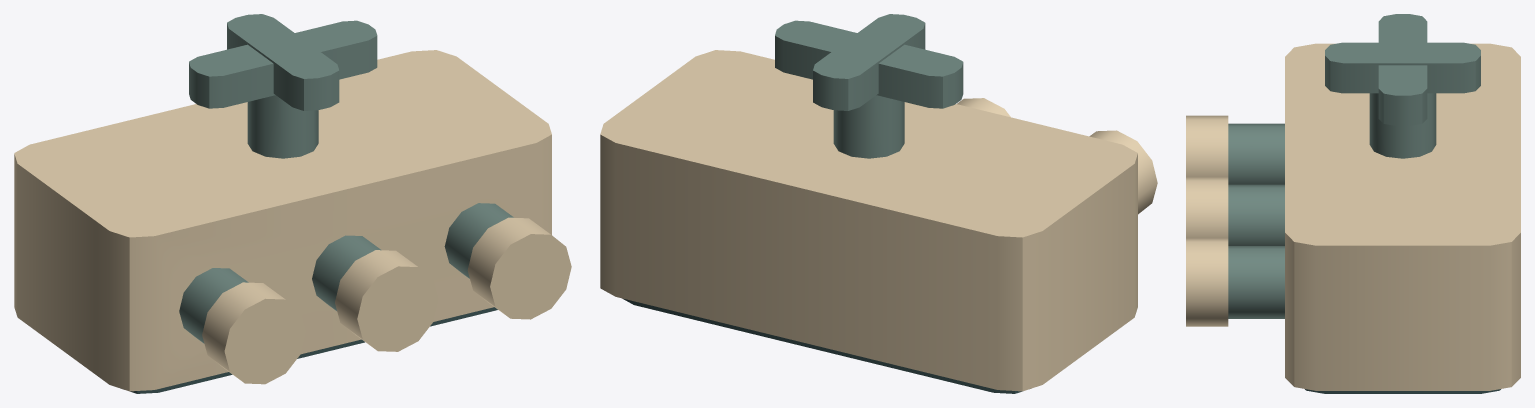
The model's file is valve-manifold.glb.
3 renders of one model, left to right at view 1: azimuth 30°, elevation 25°; view 2: azimuth 150°, elevation 25°; view 3: azimuth 270°, elevation 25°, orthographic. The views are drawn at different scales.
Visible parts, largest first — view 1: valve-manifold; view 2: valve-manifold; view 3: valve-manifold.
Part boxes in pixels (<box>): valve-manifold: <box>14,14,571,393</box>; valve-manifold: <box>600,14,1157,393</box>; valve-manifold: <box>1186,14,1520,393</box>.
Size of the model in its own units: 2.15 by 1.23 by 1.5.
Materials: 1 (1 with a texture image).
